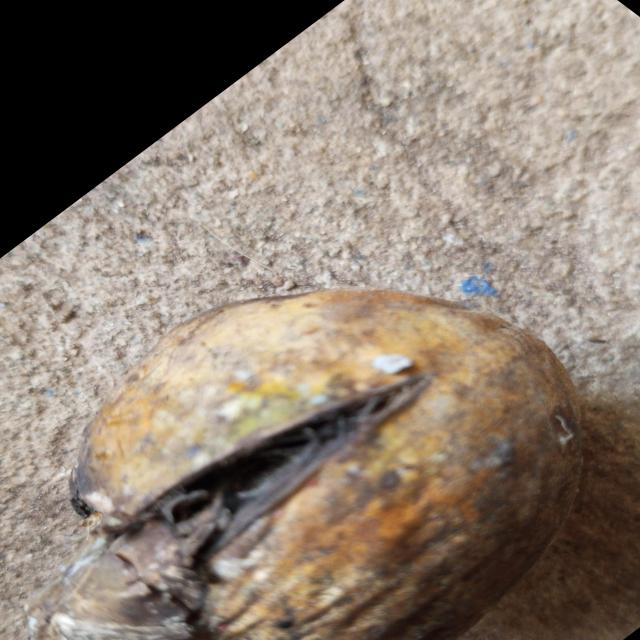damaged: (31, 290, 582, 640)
